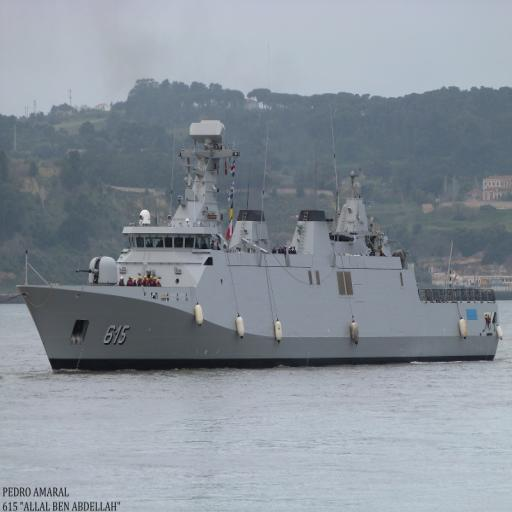Fragata: (14, 101, 504, 382)
